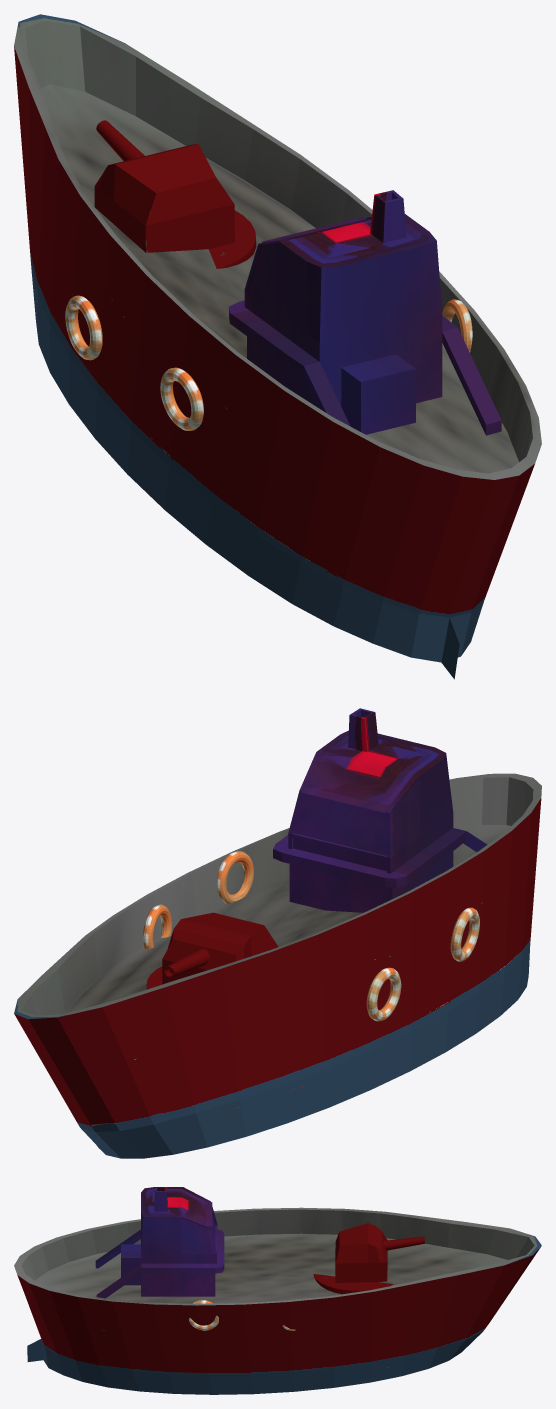
The model's file is Ship(Loader).fbx.
3 views of the same model, one above another, from view 1: azimuth 30°, elevation 25°; view 2: azimuth 150°, elevation 25°; view 3: azimuth 270°, elevation 25° (orthographic). The views are drawn at different scales.
Parts seen in each view (by area): view 1: Cylinder, Cube, Cylinder.002, Torus.001, Torus; view 2: Cylinder, Cube, Cylinder.002, Torus, Torus.002, Torus.001, Torus.003; view 3: Cylinder, Cube, Cylinder.002.
Boxes of the visible parts, x1,y1,x2,y2 form: Cylinder: (14, 14, 541, 679); Cube: (229, 190, 501, 435); Cylinder.002: (94, 120, 256, 268); Torus.001: (160, 367, 203, 430); Torus: (65, 295, 102, 360); Cylinder: (14, 773, 541, 1158); Cube: (273, 708, 487, 912); Cylinder.002: (146, 912, 278, 989); Torus: (366, 967, 401, 1021); Torus.002: (217, 851, 253, 903); Torus.001: (450, 907, 479, 961); Torus.003: (143, 904, 171, 948); Cylinder: (14, 1207, 541, 1394); Cube: (95, 1187, 224, 1298); Cylinder.002: (313, 1223, 424, 1294).
Bounding box in the file's own units: 263 × 308 × 775.
